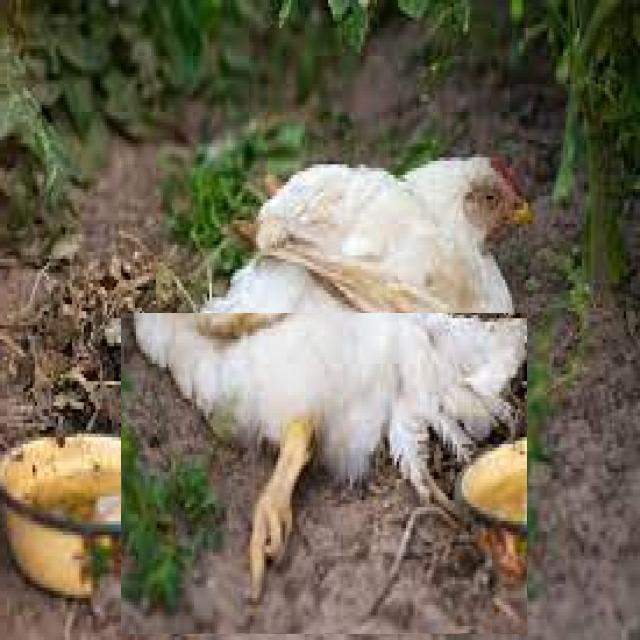AbNormal: (136, 150, 536, 607)
